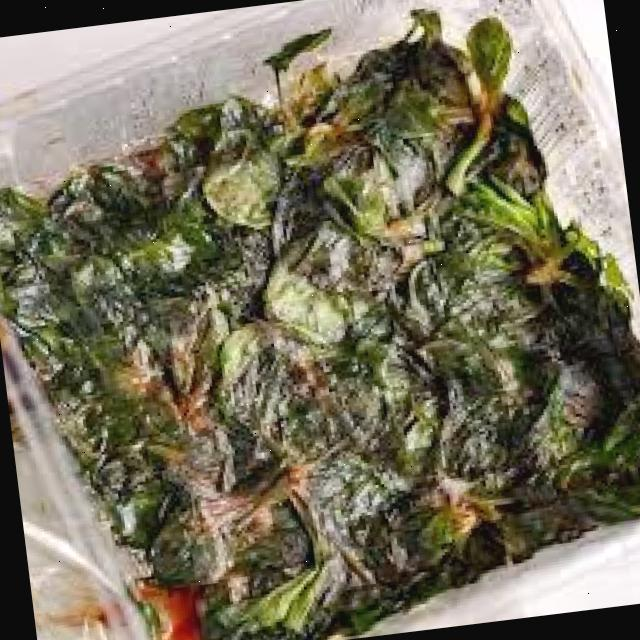rotten spinach: (245, 217, 580, 487), (29, 279, 222, 428), (138, 468, 314, 620), (409, 16, 523, 192), (335, 473, 464, 611), (255, 96, 394, 198)
